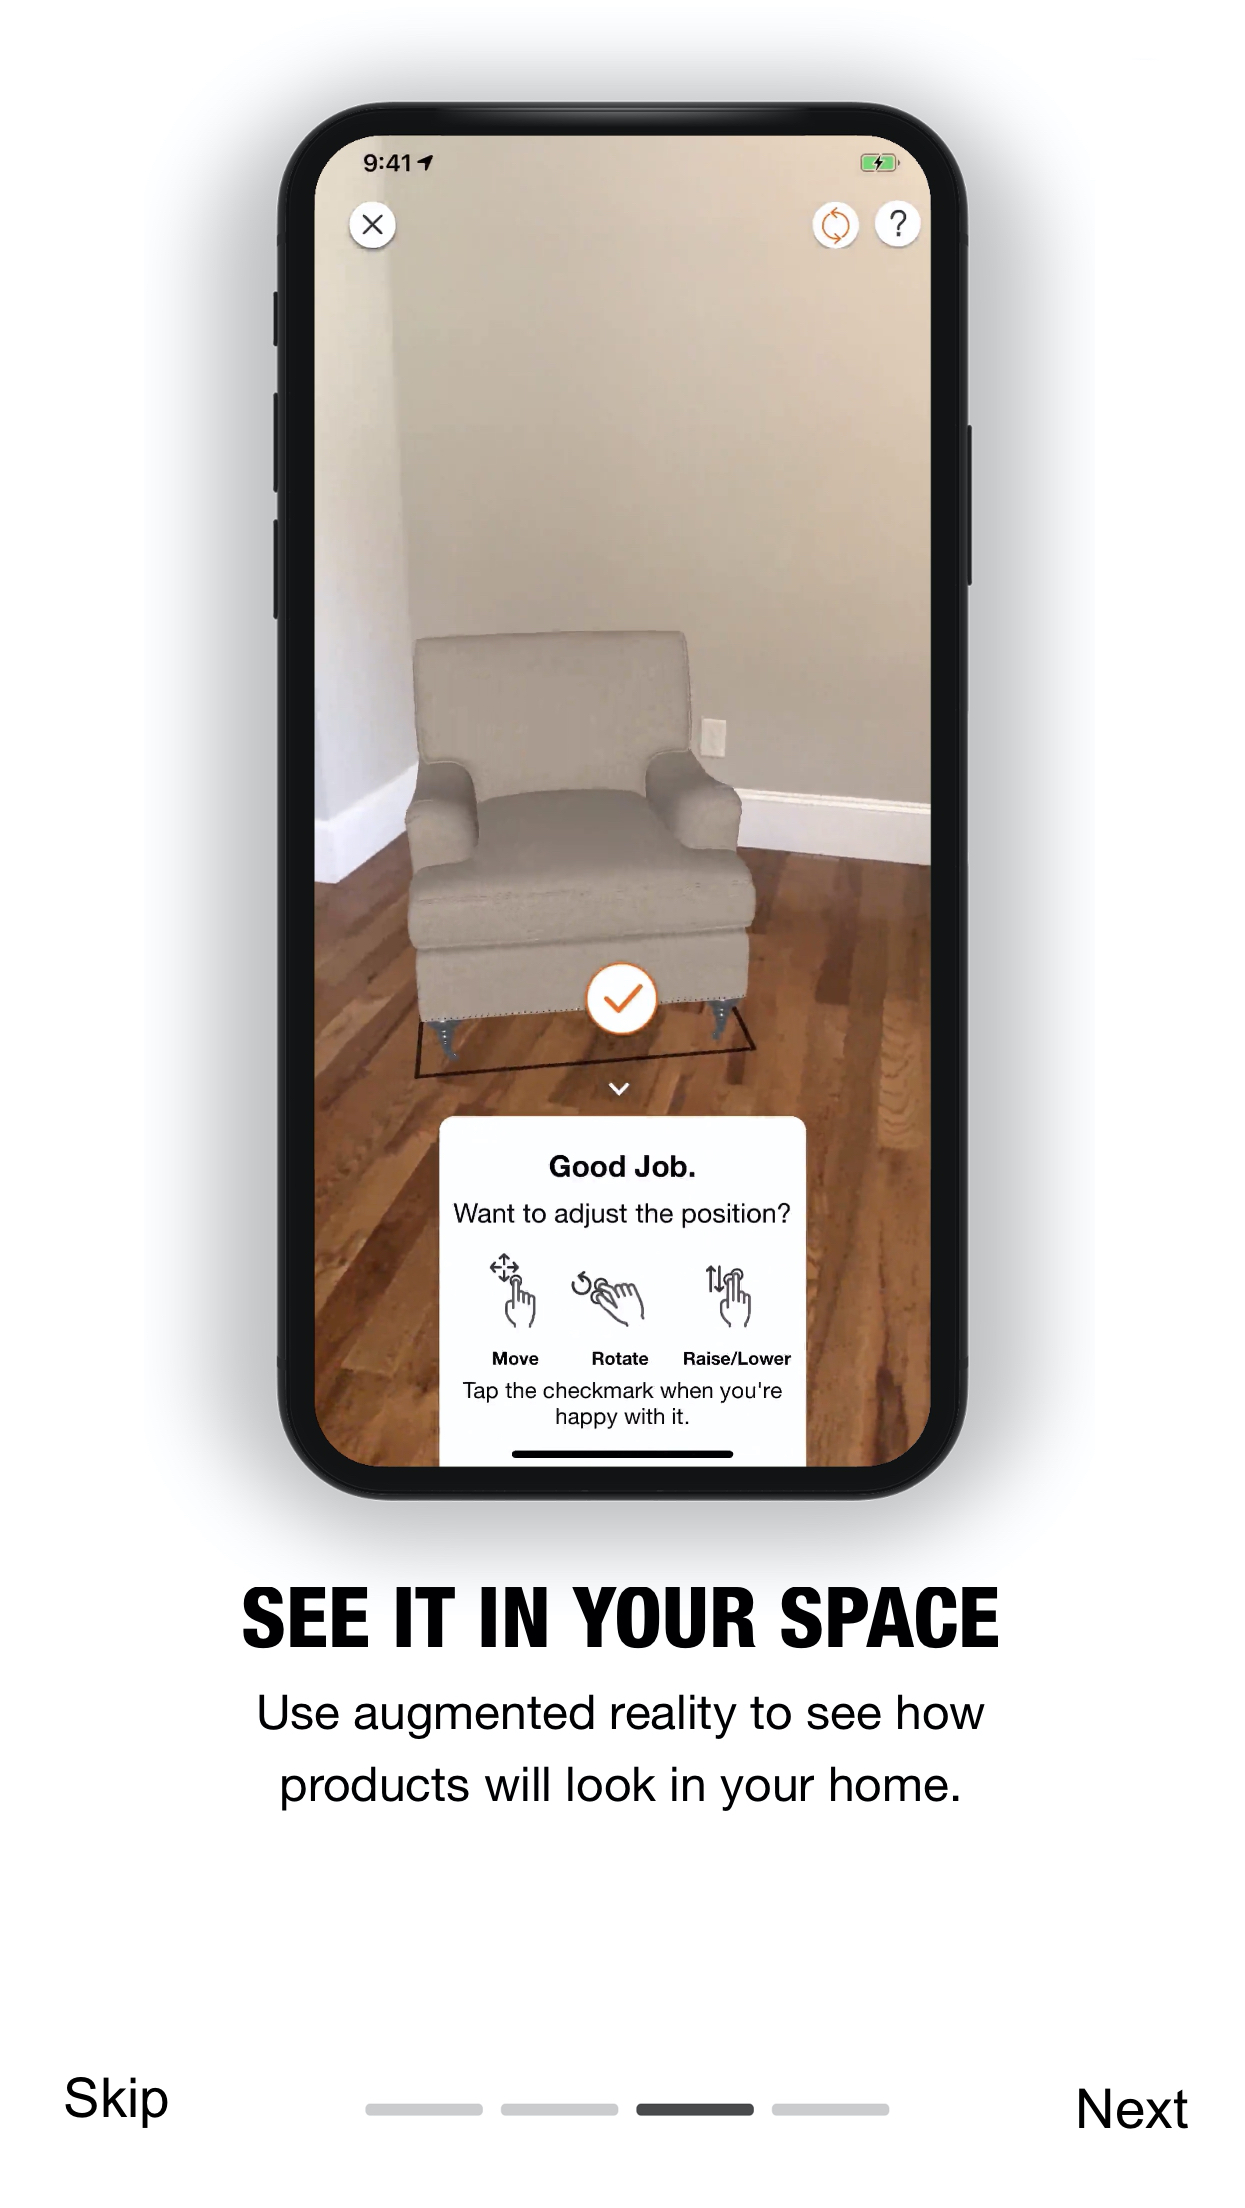Image: (271, 102, 975, 1501)
PageIndicator: (365, 2102, 890, 2115)
Text: (259, 1692, 986, 1811), (243, 1586, 998, 1648), (65, 2076, 168, 2128), (1078, 2087, 1187, 2129)
